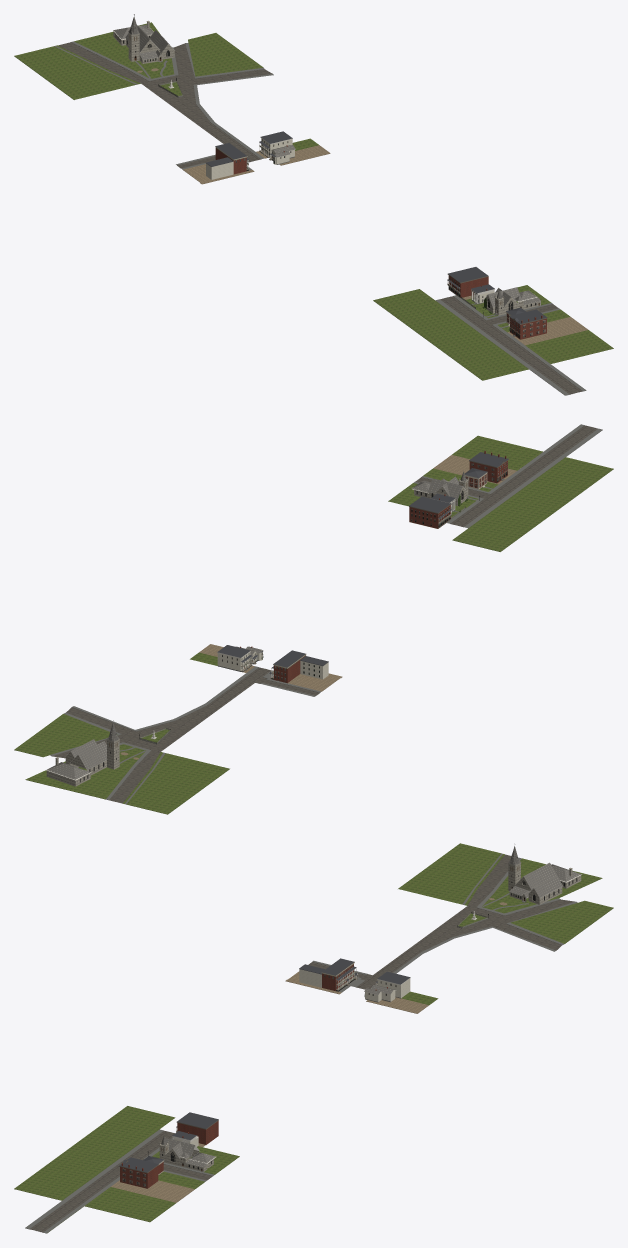
The model's file is street-ends.glb.
The picture shows the model from 3 angles, top to bottom: view 1: azimuth 30°, elevation 25°; view 2: azimuth 150°, elevation 25°; view 3: azimuth 330°, elevation 25°; orthographic projection. The views are drawn at different scales.
Visible parts, largest first — view 1: StreetEnds; view 2: StreetEnds; view 3: StreetEnds.
Part boxes in pixels (box(x1,y1,x2,y2)): StreetEnds: box(14, 14, 613, 395); StreetEnds: box(14, 424, 613, 814); StreetEnds: box(14, 843, 613, 1233).
Size of the model in its own units: 140 by 34.85 by 672.
10 materials, 10 textured.
